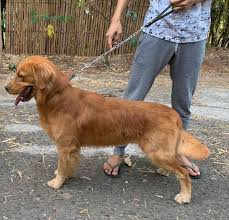Golden Retriever: (1, 39, 211, 211)
